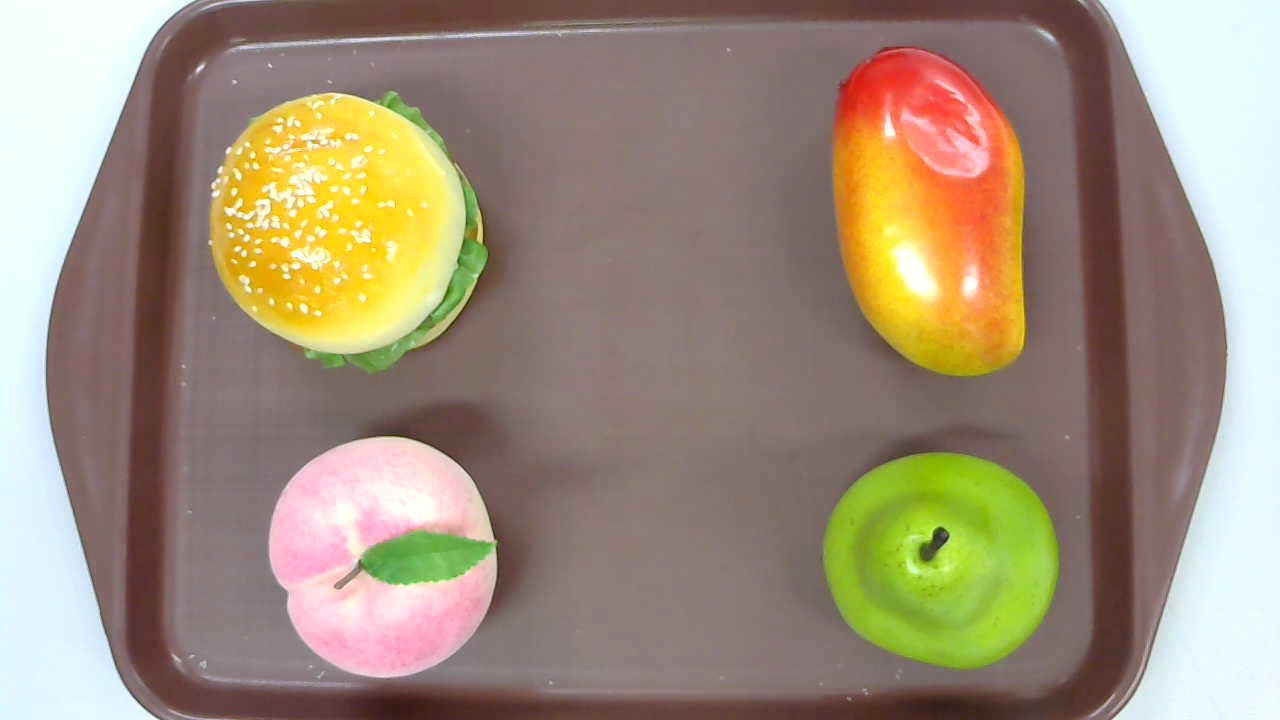green pear: (822, 451, 1060, 668)
hamburger: (209, 91, 488, 374)
peaches: (266, 433, 498, 677)
red mango: (830, 45, 1026, 375)
